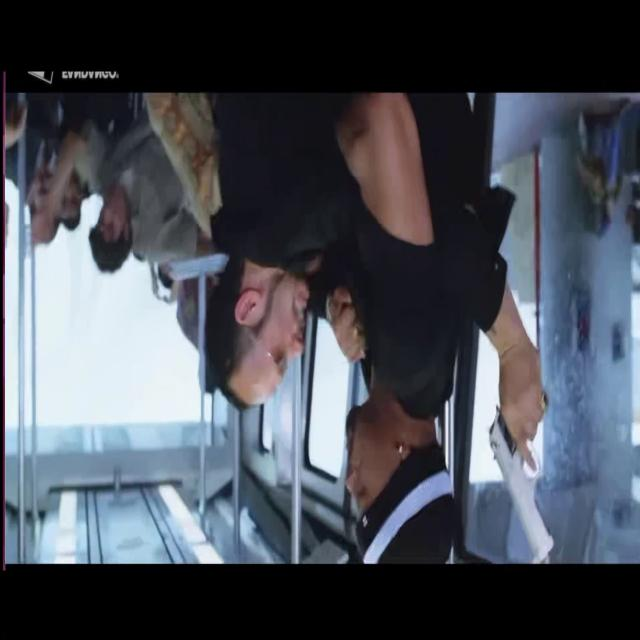weapons: (476, 388, 568, 564)
